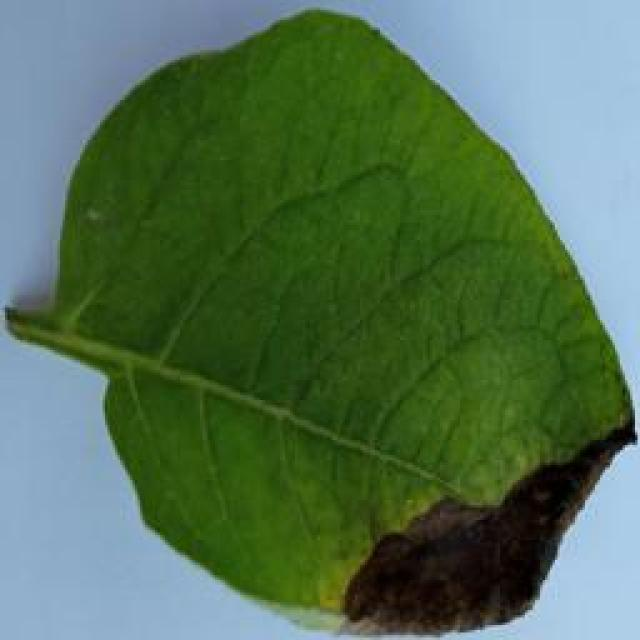Potato_Late_Blight: (5, 8, 628, 633)
